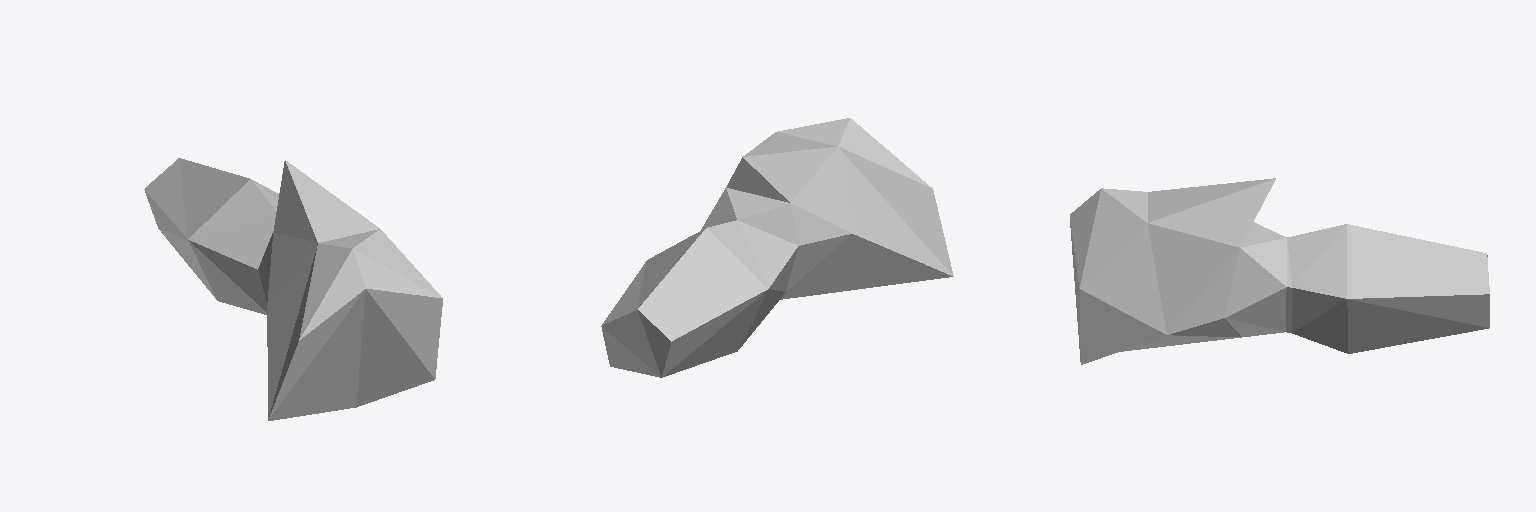
File: Brazo2.obj
The picture shows the model from 3 angles: view 1: azimuth 30°, elevation 25°; view 2: azimuth 150°, elevation 25°; view 3: azimuth 270°, elevation 25°; orthographic projection.
Visible parts, largest first — view 1: polySurface12 polySurface10 polySurface7 polySurface4 polySurfac; view 2: polySurface12 polySurface10 polySurface7 polySurface4 polySurfac; view 3: polySurface12 polySurface10 polySurface7 polySurface4 polySurfac.
Part boxes in pixels (left/top/right/bottom): polySurface12 polySurface10 polySurface7 polySurface4 polySurfac: left=144, top=158, right=442, bottom=420; polySurface12 polySurface10 polySurface7 polySurface4 polySurfac: left=601, top=118, right=953, bottom=377; polySurface12 polySurface10 polySurface7 polySurface4 polySurfac: left=1070, top=178, right=1489, bottom=364.
Bounding box in the file's own units: 0.2111 × 0.2111 × 0.4419.